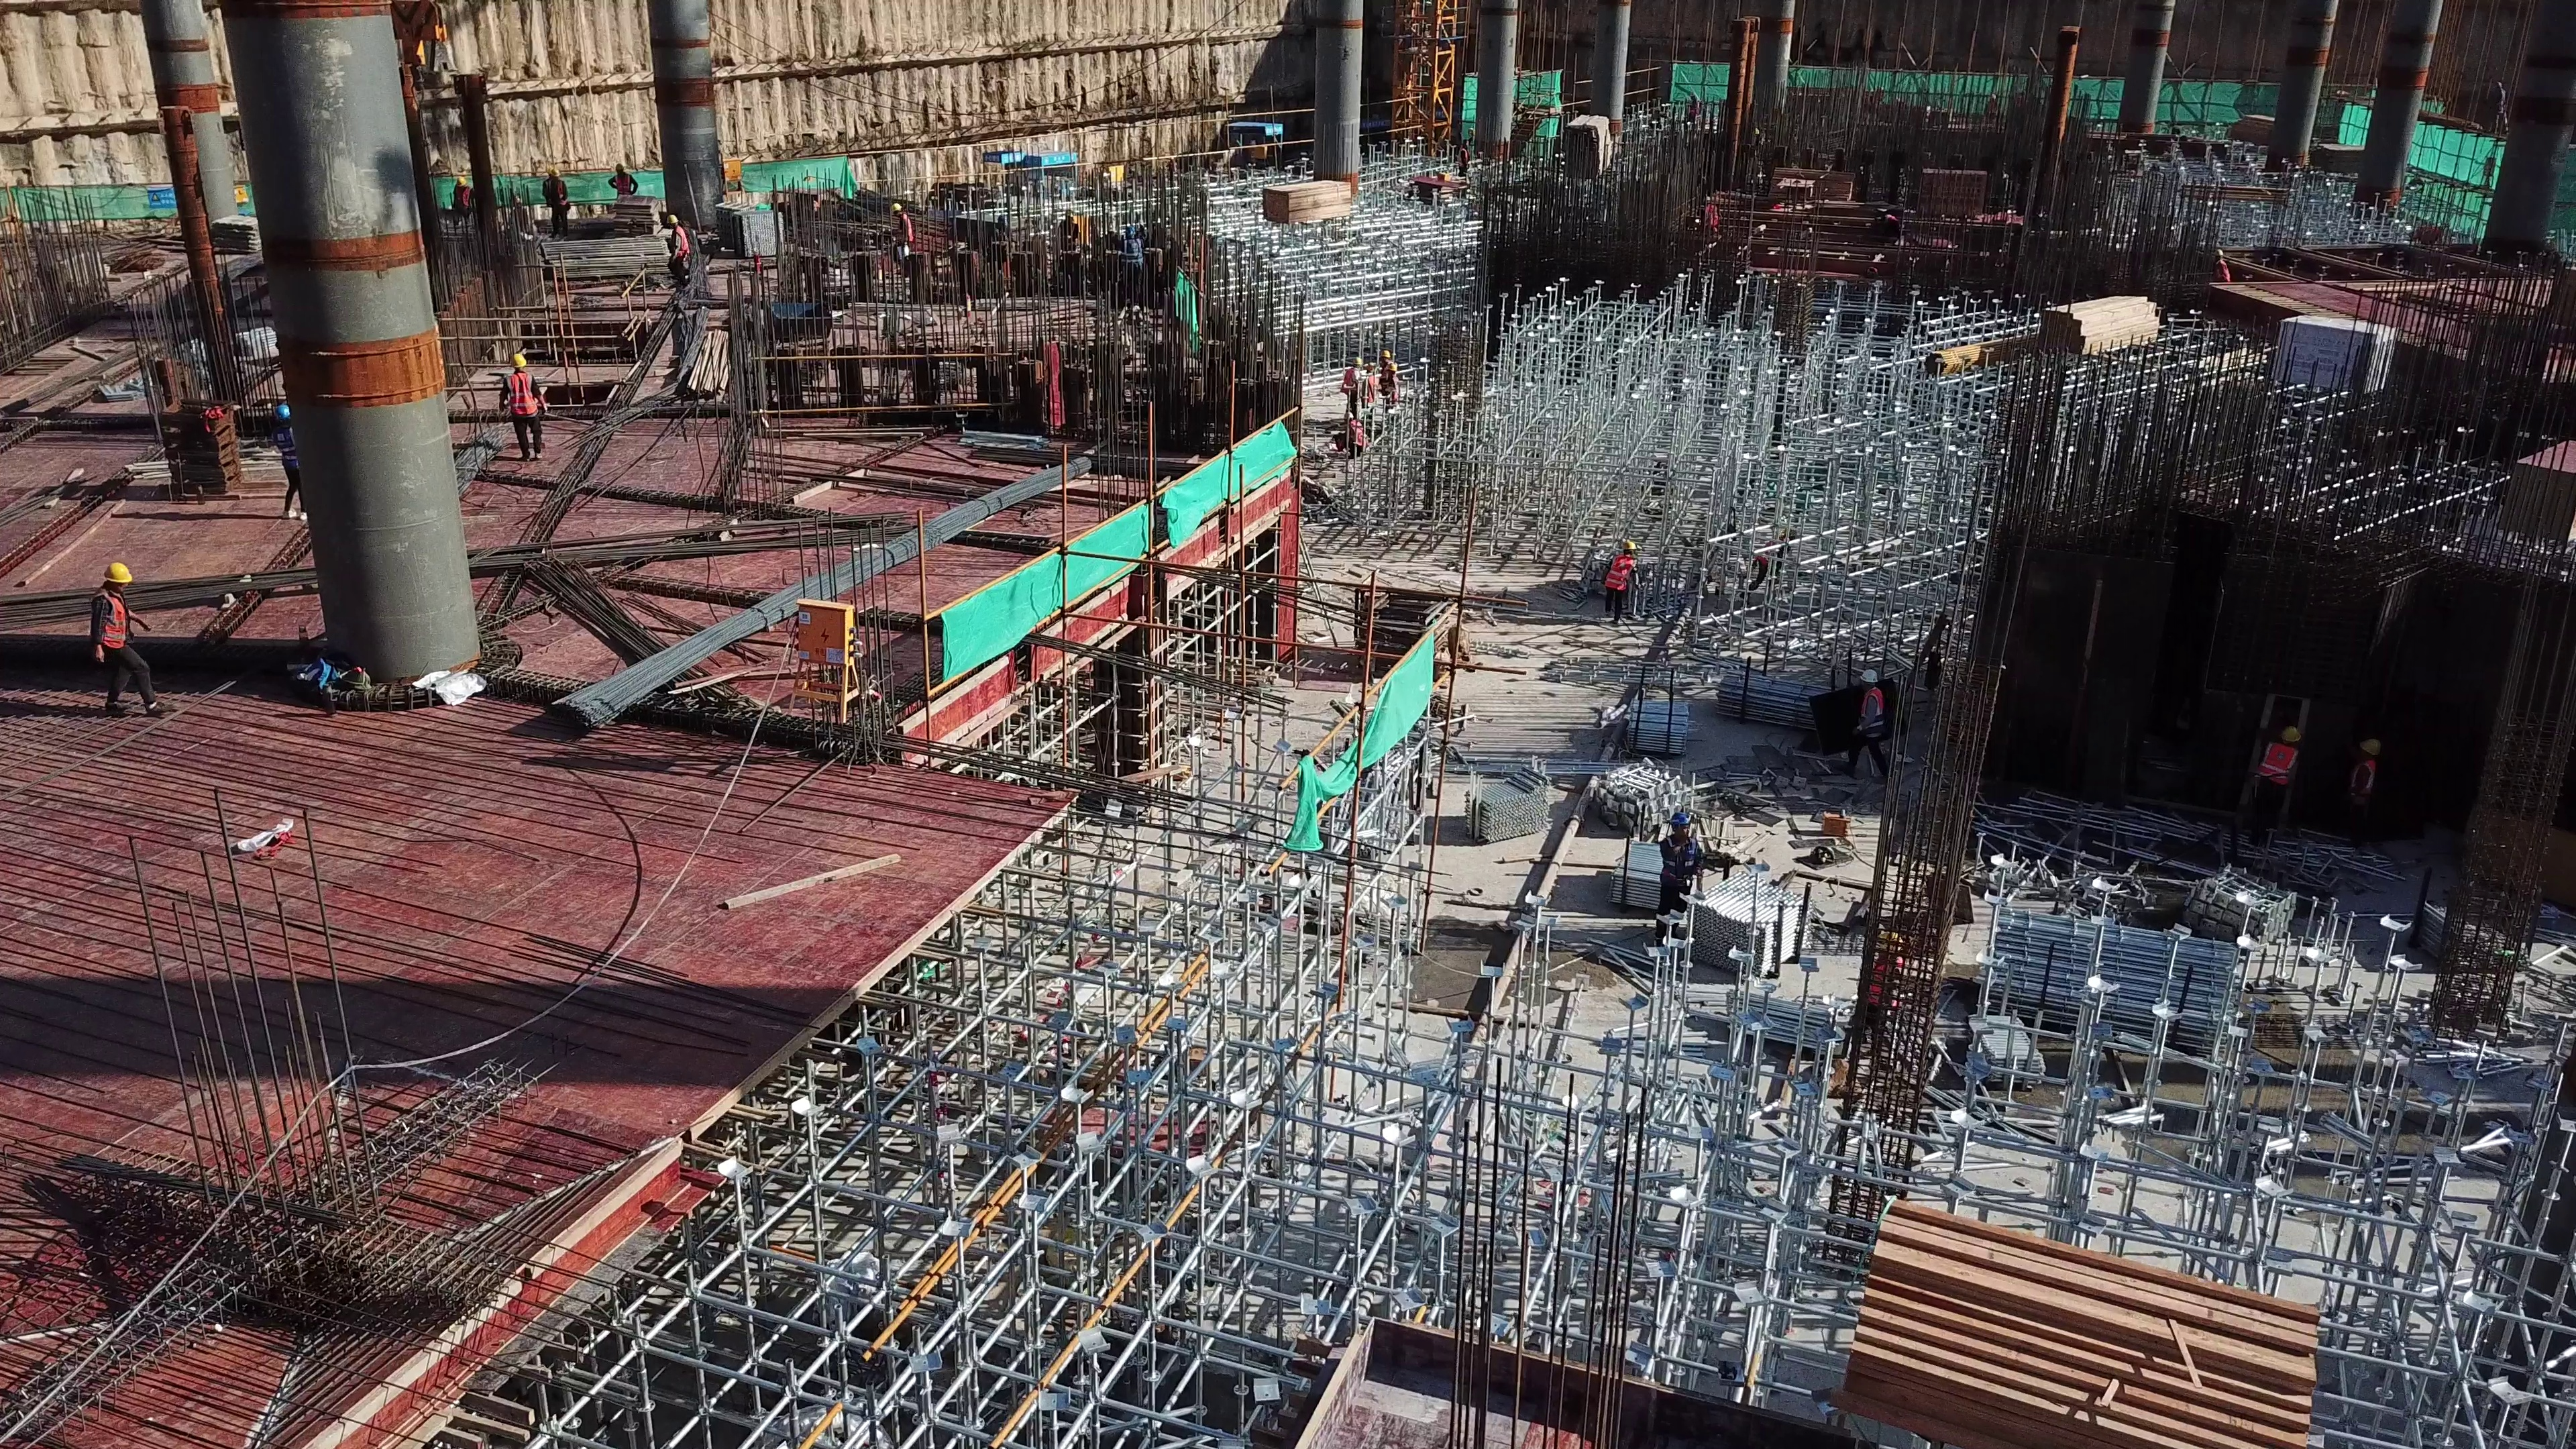helmet: (107, 561, 131, 586), (1876, 932, 1898, 953), (2281, 723, 2300, 743), (2363, 737, 2381, 759), (509, 352, 525, 372), (1860, 669, 1876, 684), (278, 405, 292, 422), (1672, 810, 1688, 825), (666, 213, 679, 226), (1621, 539, 1634, 551), (2214, 246, 2222, 258), (1383, 350, 1393, 360), (1125, 227, 1132, 235), (458, 178, 464, 188), (894, 203, 900, 210)
person: (90, 561, 171, 716), (2249, 721, 2298, 857), (1851, 929, 1900, 1065), (497, 354, 548, 466), (1657, 815, 1696, 951), (1848, 668, 1888, 786), (270, 405, 305, 524), (2349, 737, 2381, 852), (1601, 536, 1638, 616), (663, 213, 689, 287), (541, 172, 569, 233), (1116, 223, 1142, 290), (1702, 195, 1730, 244), (892, 205, 913, 259), (1339, 411, 1365, 451), (453, 176, 476, 223), (1344, 356, 1359, 419), (608, 162, 635, 193), (1382, 351, 1397, 409), (2212, 247, 2234, 276), (1365, 362, 1374, 412), (1458, 138, 1469, 172)
vest: (94, 587, 126, 650), (1870, 955, 1896, 1010), (505, 373, 539, 416), (1664, 837, 1693, 882), (2261, 743, 2292, 784), (274, 429, 297, 467), (1607, 555, 1630, 592), (1862, 690, 1881, 733), (672, 229, 688, 258), (1351, 418, 1366, 446), (1124, 239, 1139, 262), (455, 186, 466, 211), (1345, 366, 1355, 392), (616, 174, 630, 190), (2218, 259, 2228, 276)
